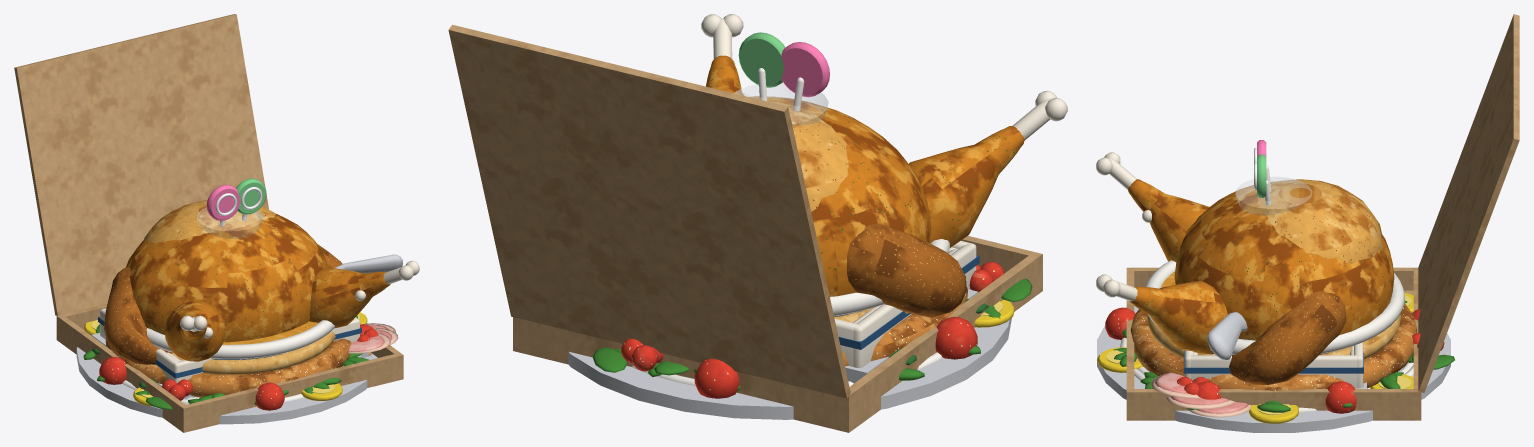
The model's file is nourriture.glb.
3 views of the same model, side by side, from view 1: azimuth 30°, elevation 25°; view 2: azimuth 150°, elevation 25°; view 3: azimuth 270°, elevation 25° (orthographic). The views are drawn at different scales.
Visible parts, largest first — view 1: boite_pizza, dinde, pizza, bol_soupe, sac_bonbons, tourtiere, lasagne, jambon_erable; view 2: boite_pizza, dinde, sac_bonbons, lasagne, pizza, bol_soupe, jambon_erable, tourtiere; view 3: dinde, boite_pizza, pizza, bol_soupe, sac_bonbons, lasagne, jambon_erable, tourtiere.
Part boxes in pixels (x1,y1,x2,y2): boite_pizza: (14,14,403,432); dinde: (76,199,419,424); pizza: (105,338,351,397); bol_soupe: (146,254,402,359); sac_bonbons: (197,178,266,238); tourtiere: (122,331,360,404); lasagne: (98,308,361,383); jambon_erable: (91,323,398,409); boite_pizza: (448,24,1042,432); dinde: (568,14,1067,419); sac_bonbons: (734,32,829,125); lasagne: (834,240,979,368); pizza: (841,286,967,366); bol_soupe: (830,239,949,316); jambon_erable: (639,299,988,397); tourtiere: (632,307,974,386); dinde: (1096,152,1454,432); boite_pizza: (1126,14,1519,420); pizza: (1130,303,1417,390); bol_soupe: (1145,260,1404,359); sac_bonbons: (1235,140,1312,215); lasagne: (1184,342,1363,388); jambon_erable: (1112,311,1413,417); tourtiere: (1120,314,1413,412).
Bounding box in the file's own units: 0.4858 × 0.4109 × 0.5456.
Materials: 111 (41 with a texture image).
